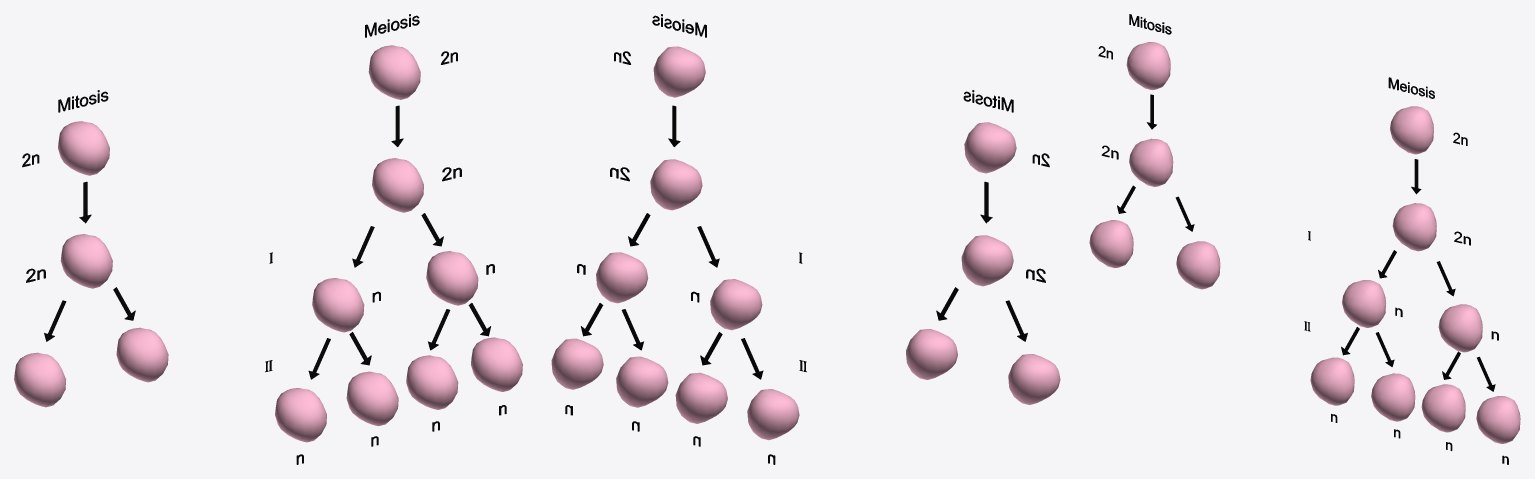
Rendered from mitosis_versus_meiosis.glb.
The picture shows the model from 3 angles, left to right: view 1: azimuth 30°, elevation 25°; view 2: azimuth 150°, elevation 25°; view 3: azimuth 330°, elevation 25°; orthographic projection. The views are drawn at different scales.
Visible parts, largest first — view 1: Box007_bac vardaguyn opacity_0, Box003_bac vardaguyn opacity_0, Box013_bac vardaguyn opacity_0, Box015_bac vardaguyn opacity_0, Box021_bac vardaguyn opacity_0, Box009_bac vardaguyn opacity_0, Box011_bac vardaguyn opacity_0, Box019_bac vardaguyn opacity_0, Box001_bac vardaguyn opacity_0, Box023_bac vardaguyn opacity_0, Box017_bac vardaguyn opacity_0, Box005_bac vardaguyn opacity_0; view 2: Box009_bac vardaguyn opacity_0, Box023_bac vardaguyn opacity_0, Box011_bac vardaguyn opacity_0, Box003_bac vardaguyn opacity_0, Box015_bac vardaguyn opacity_0, Box001_bac vardaguyn opacity_0, Box005_bac vardaguyn opacity_0, Box017_bac vardaguyn opacity_0, Box013_bac vardaguyn opacity_0, Box021_bac vardaguyn opacity_0, Box007_bac vardaguyn opacity_0, Box019_bac vardaguyn opacity_0; view 3: Box015_bac vardaguyn opacity_0, Box017_bac vardaguyn opacity_0, Box021_bac vardaguyn opacity_0, Box007_bac vardaguyn opacity_0, Box011_bac vardaguyn opacity_0, Box005_bac vardaguyn opacity_0, Box019_bac vardaguyn opacity_0, Box023_bac vardaguyn opacity_0, Box009_bac vardaguyn opacity_0, Box003_bac vardaguyn opacity_0, Box001_bac vardaguyn opacity_0, Box013_bac vardaguyn opacity_0.
Boxes of the visible parts, <box> form: Box007_bac vardaguyn opacity_0: <box>116,327,168,382</box>; Box003_bac vardaguyn opacity_0: <box>60,234,112,288</box>; Box013_bac vardaguyn opacity_0: <box>312,278,364,332</box>; Box015_bac vardaguyn opacity_0: <box>426,251,478,305</box>; Box021_bac vardaguyn opacity_0: <box>406,355,458,409</box>; Box009_bac vardaguyn opacity_0: <box>368,45,420,99</box>; Box011_bac vardaguyn opacity_0: <box>372,158,423,212</box>; Box019_bac vardaguyn opacity_0: <box>346,371,398,426</box>; Box001_bac vardaguyn opacity_0: <box>58,121,109,175</box>; Box023_bac vardaguyn opacity_0: <box>471,337,522,391</box>; Box017_bac vardaguyn opacity_0: <box>275,388,326,442</box>; Box005_bac vardaguyn opacity_0: <box>14,352,66,407</box>; Box009_bac vardaguyn opacity_0: <box>653,46,705,97</box>; Box023_bac vardaguyn opacity_0: <box>551,338,603,389</box>; Box011_bac vardaguyn opacity_0: <box>650,159,702,210</box>; Box003_bac vardaguyn opacity_0: <box>961,235,1013,286</box>; Box015_bac vardaguyn opacity_0: <box>596,252,648,303</box>; Box001_bac vardaguyn opacity_0: <box>964,122,1016,173</box>; Box005_bac vardaguyn opacity_0: <box>1008,354,1060,404</box>; Box017_bac vardaguyn opacity_0: <box>747,389,799,440</box>; Box013_bac vardaguyn opacity_0: <box>710,279,762,330</box>; Box021_bac vardaguyn opacity_0: <box>616,356,668,407</box>; Box007_bac vardaguyn opacity_0: <box>906,329,957,379</box>; Box019_bac vardaguyn opacity_0: <box>675,372,727,423</box>; Box015_bac vardaguyn opacity_0: <box>1438,304,1482,352</box>; Box017_bac vardaguyn opacity_0: <box>1310,357,1354,405</box>; Box021_bac vardaguyn opacity_0: <box>1421,384,1465,432</box>; Box007_bac vardaguyn opacity_0: <box>1176,241,1220,289</box>; Box011_bac vardaguyn opacity_0: <box>1392,203,1436,251</box>; Box005_bac vardaguyn opacity_0: <box>1089,220,1133,267</box>; Box019_bac vardaguyn opacity_0: <box>1371,373,1415,421</box>; Box023_bac vardaguyn opacity_0: <box>1476,396,1520,443</box>; Box009_bac vardaguyn opacity_0: <box>1390,106,1433,154</box>; Box003_bac vardaguyn opacity_0: <box>1129,138,1173,186</box>; Box001_bac vardaguyn opacity_0: <box>1126,42,1170,89</box>; Box013_bac vardaguyn opacity_0: <box>1342,280,1385,327</box>.
Bounding box in the file's own units: 17.33 × 13.93 × 1.66.
